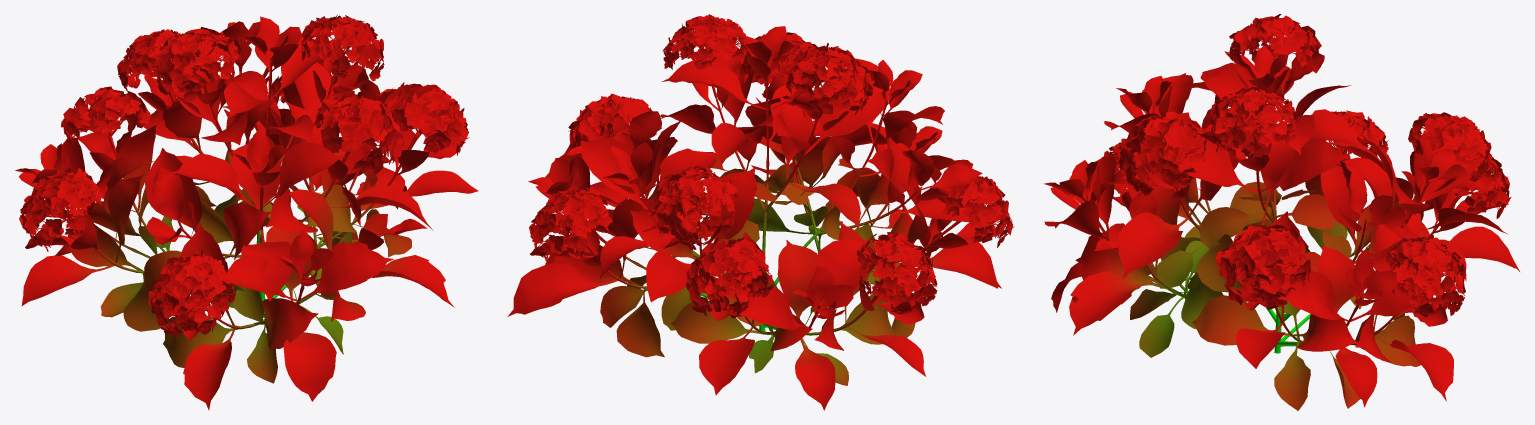
File: Var1_LOD0.fbx
3 renders of one model, left to right at view 1: azimuth 30°, elevation 25°; view 2: azimuth 150°, elevation 25°; view 3: azimuth 270°, elevation 25°, orthographic.
Visible parts, largest first — view 1: _7qjs_Var1_LOD0; view 2: _7qjs_Var1_LOD0; view 3: _7qjs_Var1_LOD0.
Part boxes in pixels (left/top/right/bottom): _7qjs_Var1_LOD0: left=15, top=14, right=478, bottom=410; _7qjs_Var1_LOD0: left=507, top=14, right=1014, bottom=410; _7qjs_Var1_LOD0: left=1044, top=14, right=1519, bottom=410.
Bounding box in the file's own units: 104 × 73.33 × 104.
